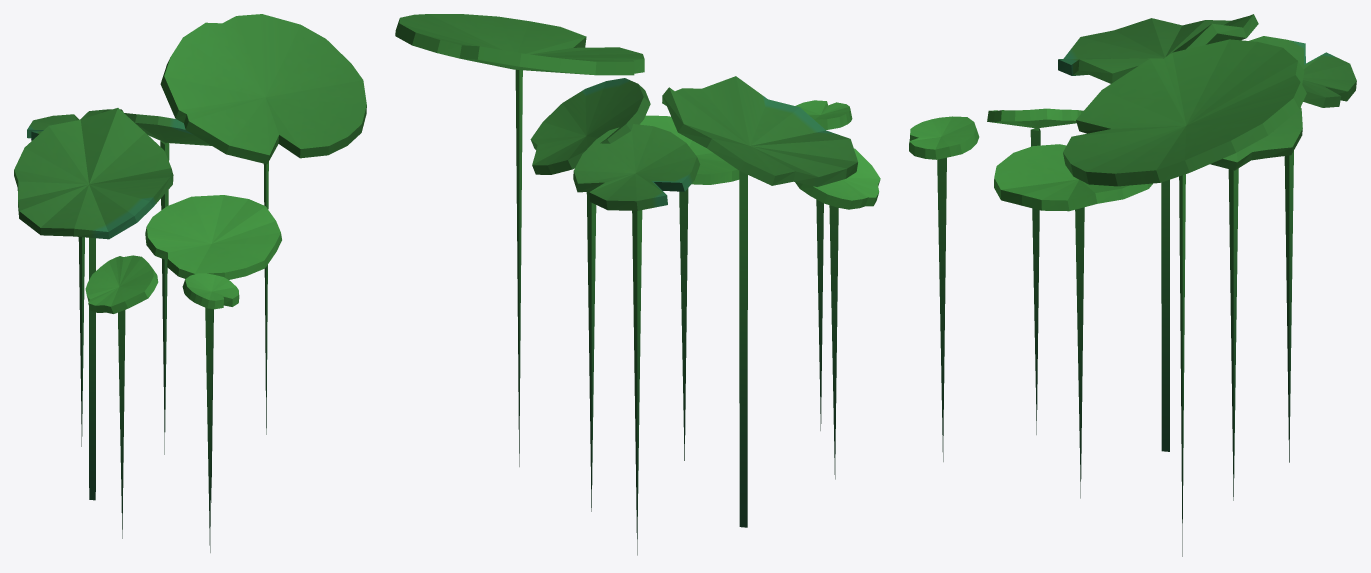
The model's file is ZLP_Grass_E_8.FBX.
3 renders of one model, left to right at view 1: azimuth 30°, elevation 25°; view 2: azimuth 150°, elevation 25°; view 3: azimuth 270°, elevation 25°, orthographic. The views are drawn at different scales.
Visible parts, largest first — view 1: ZLP_Grass_E_8; view 2: ZLP_Grass_E_8; view 3: ZLP_Grass_E_8.
Part boxes in pixels (<box>): ZLP_Grass_E_8: <box>14,14,366,552</box>; ZLP_Grass_E_8: <box>395,14,880,555</box>; ZLP_Grass_E_8: <box>909,14,1356,556</box>.
Bounding box in the file's own units: 160 × 175 × 145.
